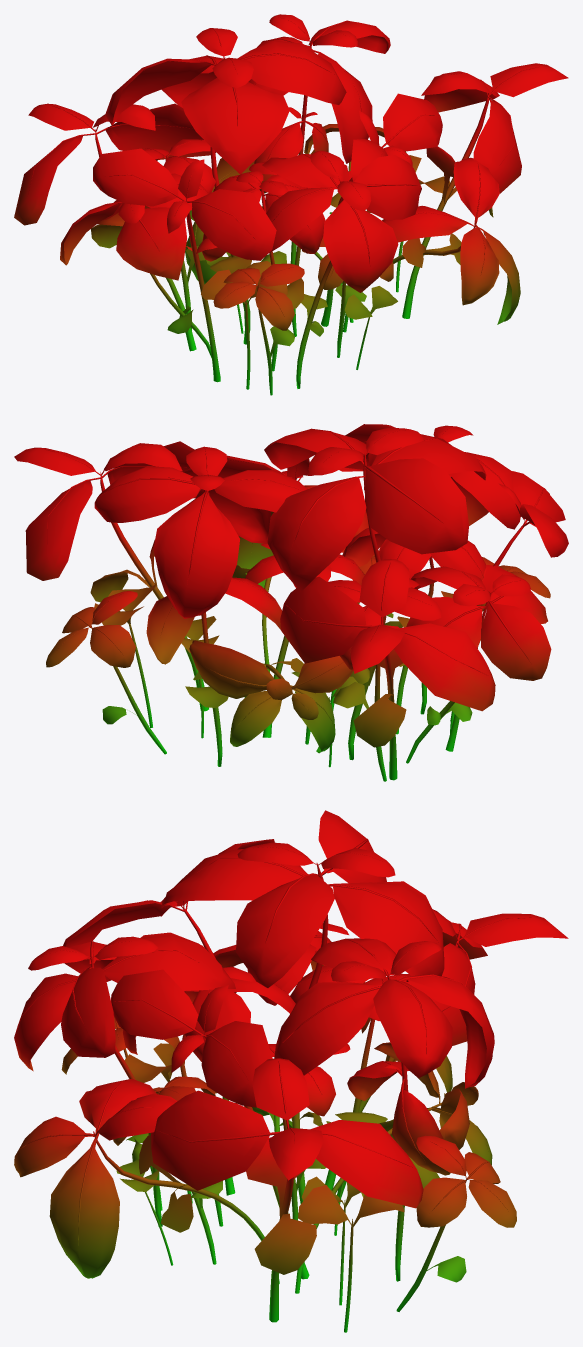
Rendered from Basil_LOD1_Var7_vgpochzia.fbx.
3 views of the same model, one above another, from view 1: azimuth 30°, elevation 25°; view 2: azimuth 150°, elevation 25°; view 3: azimuth 270°, elevation 25° (orthographic). The views are drawn at different scales.
Parts seen in each view (by area): view 1: _g2sj_Var7_LOD1; view 2: _g2sj_Var7_LOD1; view 3: _g2sj_Var7_LOD1.
Boxes of the visible parts, x1,y1,x2,y2 form: _g2sj_Var7_LOD1: [14, 14, 568, 395]; _g2sj_Var7_LOD1: [14, 424, 568, 781]; _g2sj_Var7_LOD1: [14, 810, 568, 1332].
Bounding box in the file's own units: 31.25 × 17.96 × 24.25.
